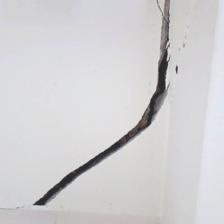Medium: (31, 62, 174, 195)
